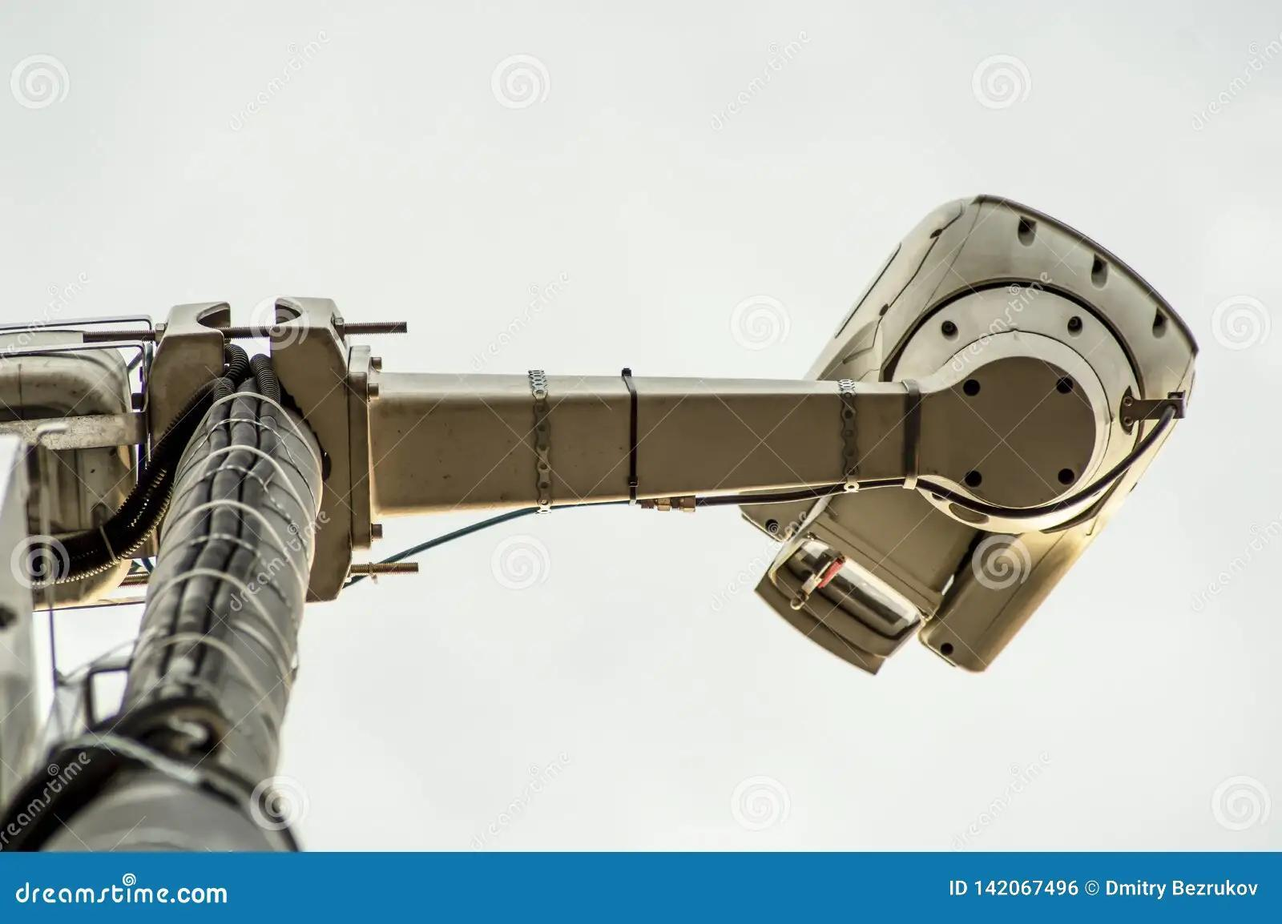Monitor: (2, 189, 1200, 846)
